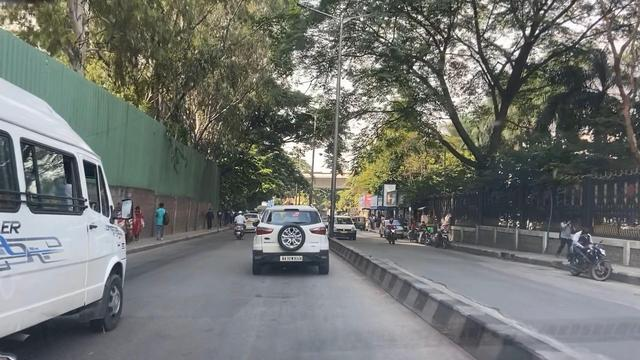HMV: (0, 78, 131, 354)
LMV: (252, 203, 337, 276)
